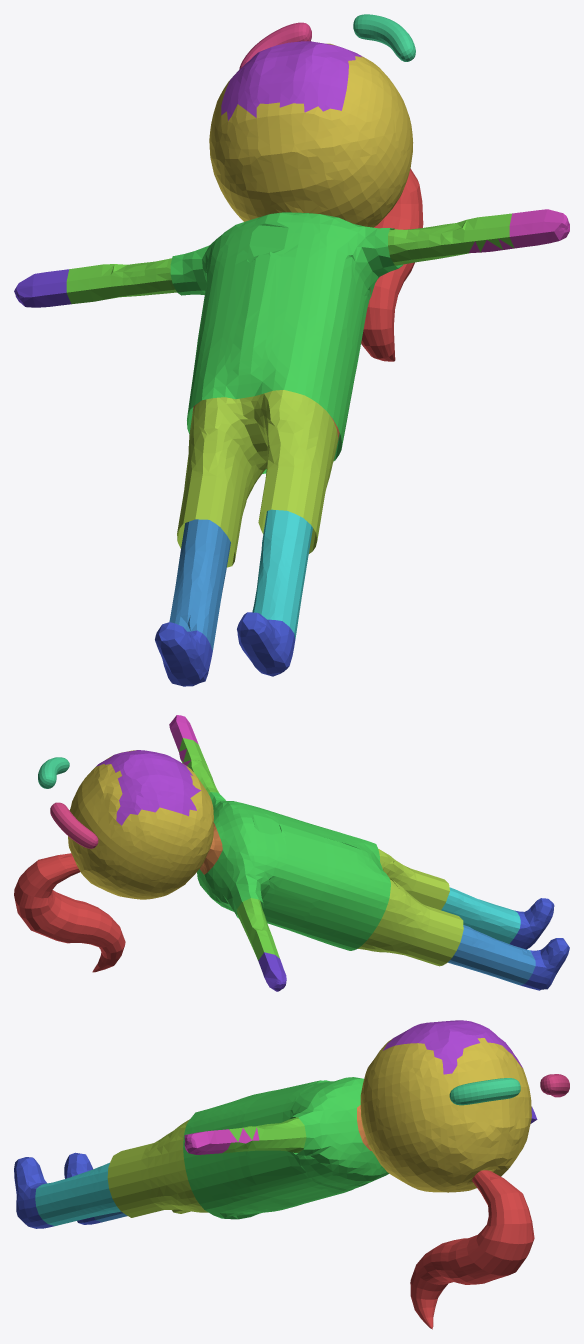
The model's file is seg_figure_meshfm.glb.
The picture shows the model from 3 angles, top to bottom: view 1: azimuth 30°, elevation 25°; view 2: azimuth 150°, elevation 25°; view 3: azimuth 270°, elevation 25°; orthographic projection. The views are drawn at different scales.
Visible parts, largest first — view 1: world; view 2: world; view 3: world.
Part boxes in pixels (x1,y1,x2,y2): world: (14,14,569,686); world: (14,715,569,991); world: (14,1020,569,1329).
Bounding box in the file's own units: 1.39 × 1.04 × 1.56.
